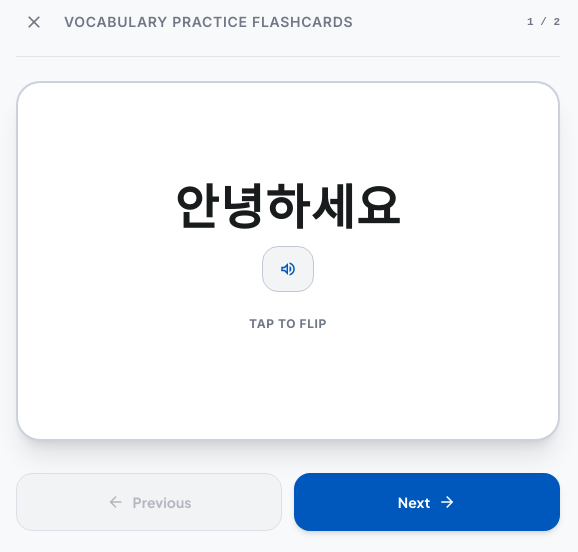
Test: Student Vocab Flashcard Lesson Screen › flips card to reveal English translation when clicked
This screenshot has width=578, height=552.
Click the element with test id "flashcard-container" at [288, 261], box [16,81,560,441]
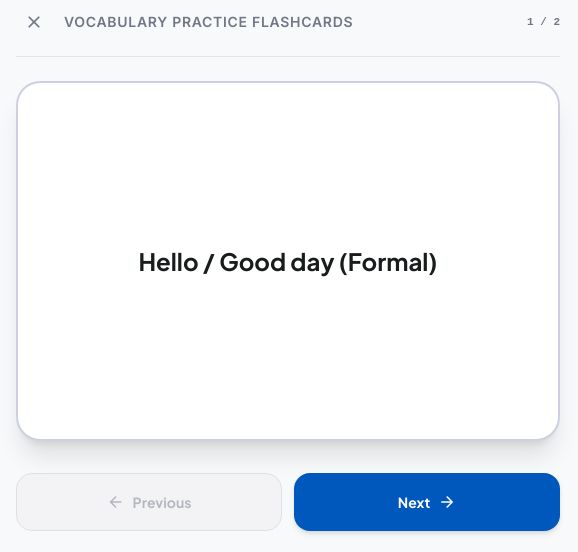
Now the heading "Hello / Good day (Formal)" is shown, box [138,245,437,277]
